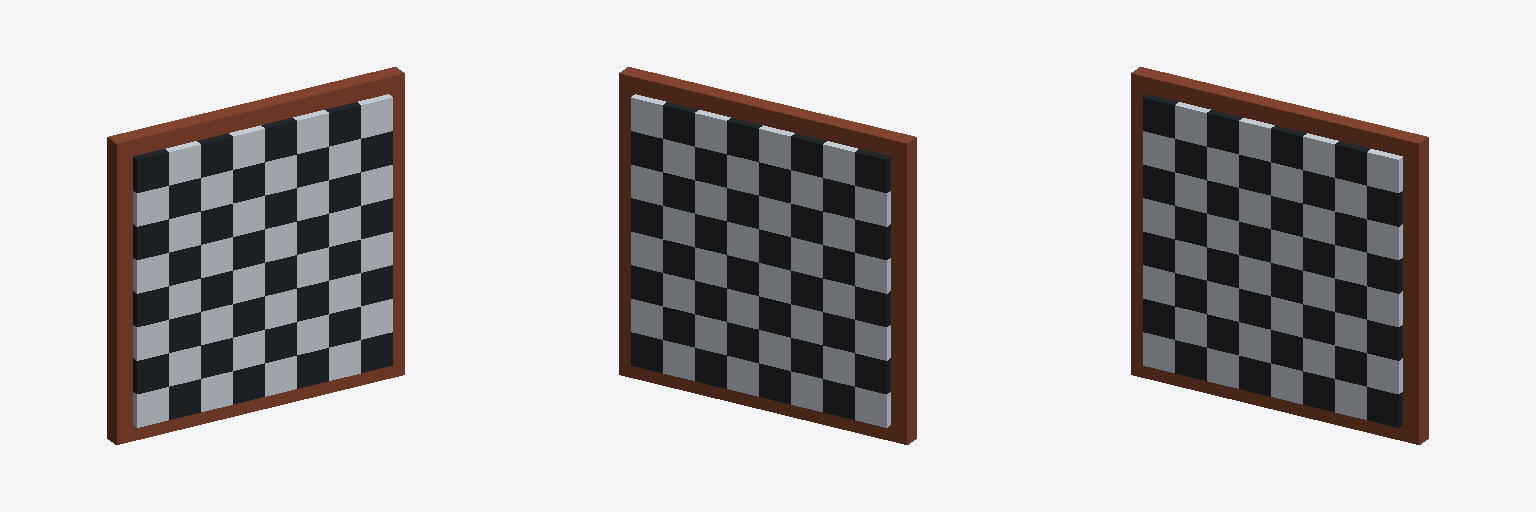
File: board_1.obj
3 views of the same model, side by side, from view 1: azimuth 30°, elevation 25°; view 2: azimuth 150°, elevation 25°; view 3: azimuth 330°, elevation 25° (orthographic).
Bounding box in the file's own units: 18 × 18 × 2.